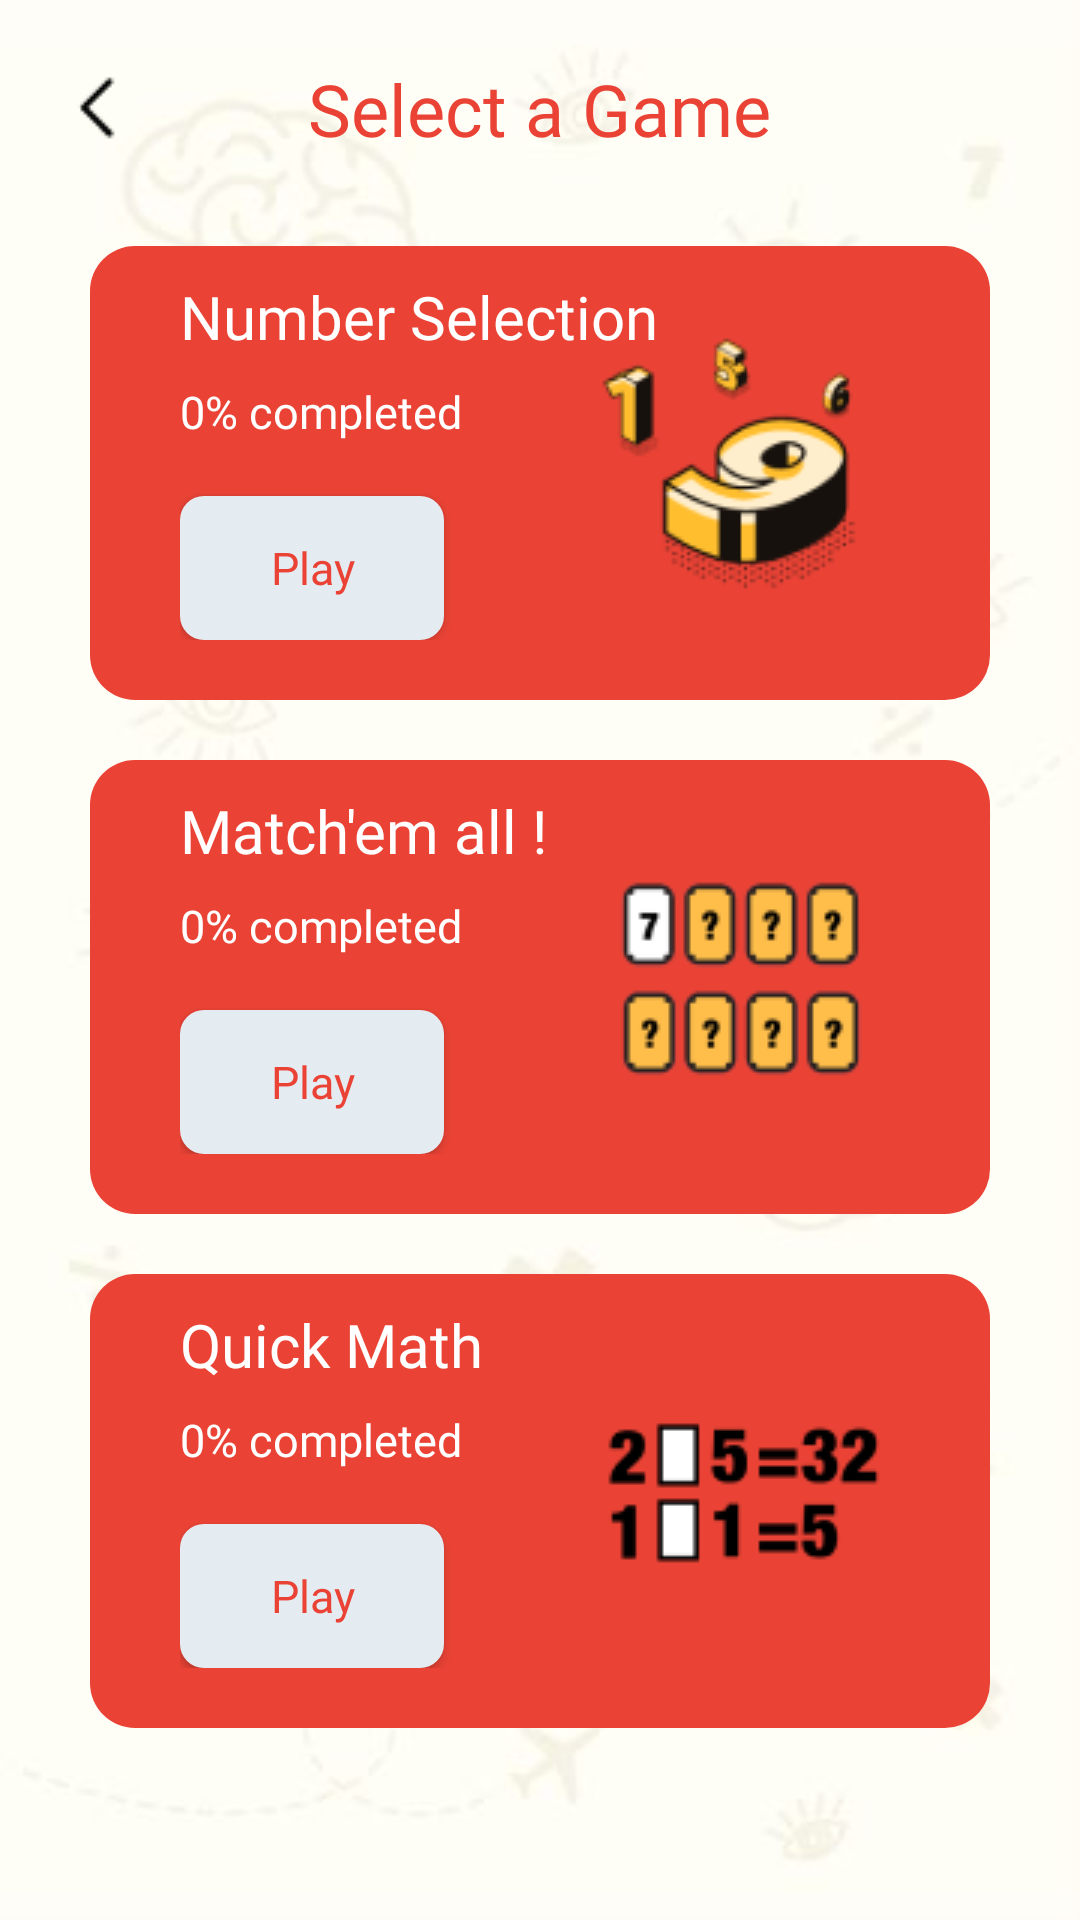

Where icons sit on this 1080 x 1920 app screen, as (x1, y1, x2, y2):
back: (80, 77, 115, 139)
matching: (622, 882, 860, 1075)
